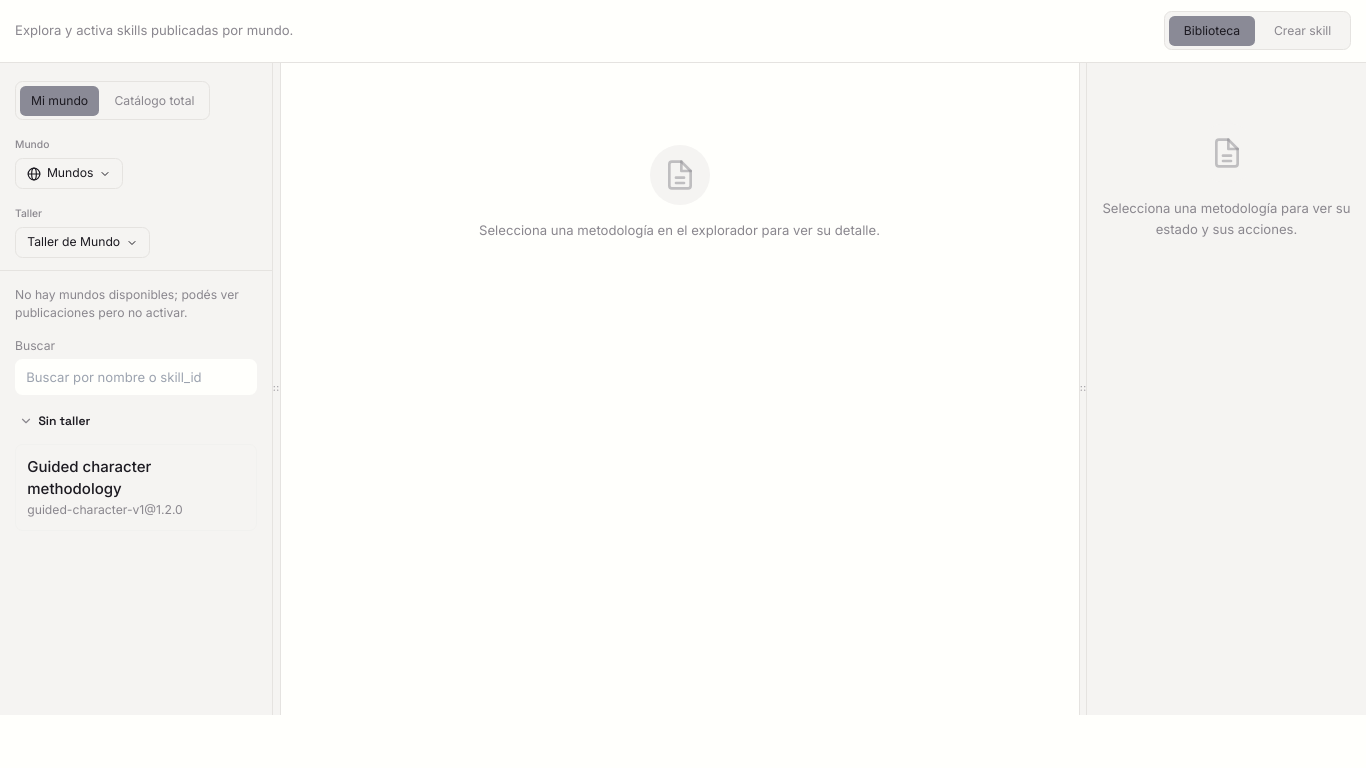
Test: ToolWorkshop › still shows publications but forbids chat actions when no worlds exist
Click the text "Guided character methodology" at coordinates (89, 478), box [27,457,151,498]
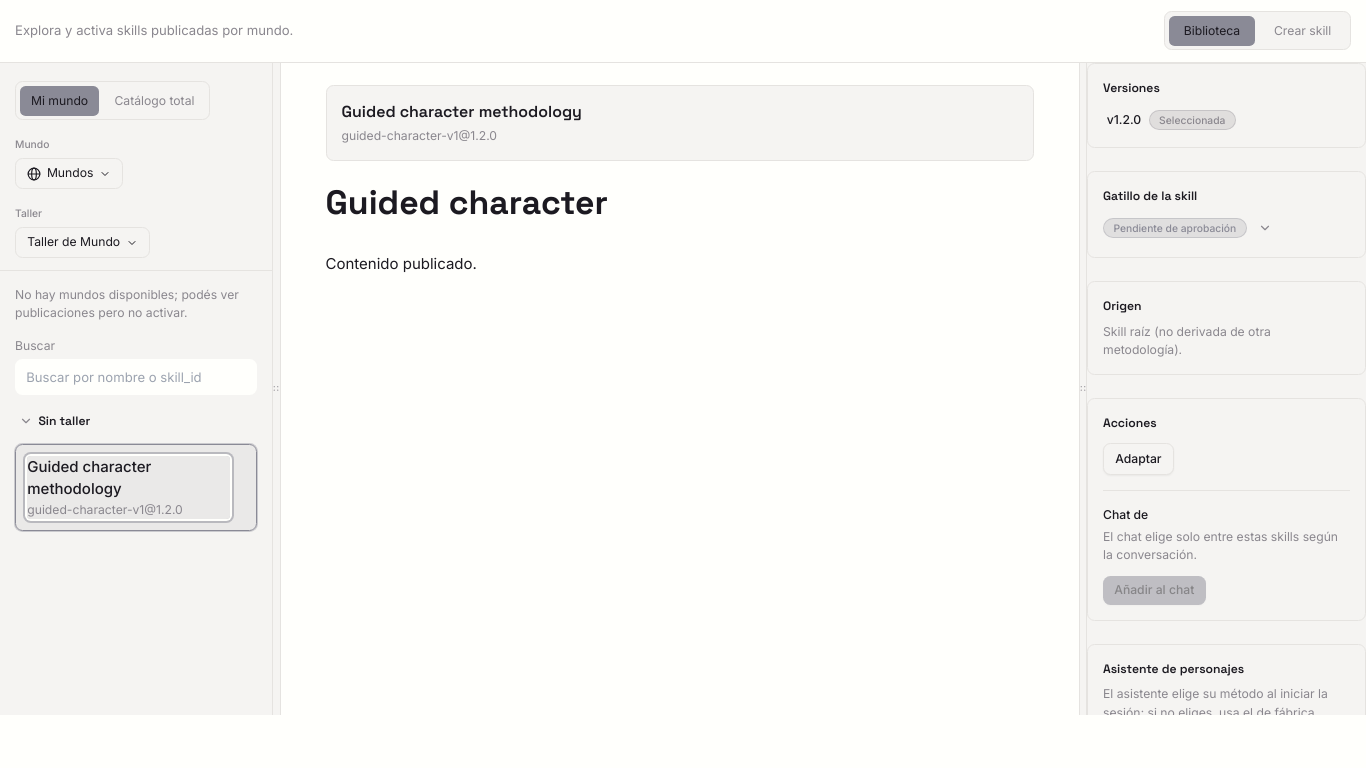
Expected: the text "No hay mundos disponibles" is shown, [15,287,239,320]
Now the button "Añadir al chat" is disabled, box [1103,576,1206,605]
